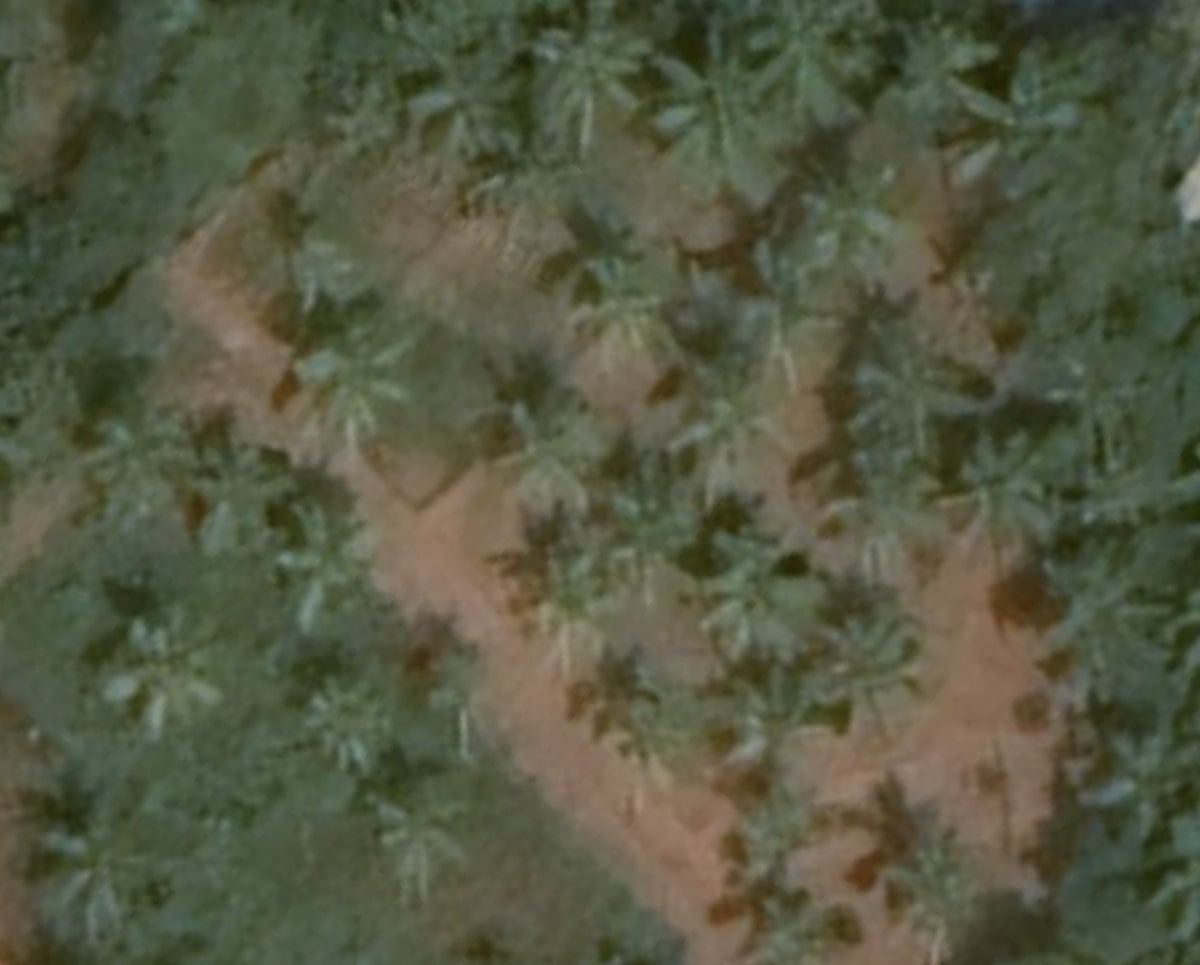coconut: (926, 48, 1076, 198), (516, 11, 654, 151), (492, 511, 630, 643), (294, 315, 420, 457), (661, 42, 787, 181), (947, 413, 1064, 561), (72, 610, 211, 733), (393, 42, 523, 172), (272, 491, 397, 625), (357, 776, 486, 905), (666, 364, 778, 503), (860, 330, 974, 456), (563, 236, 679, 358), (303, 662, 415, 783)
